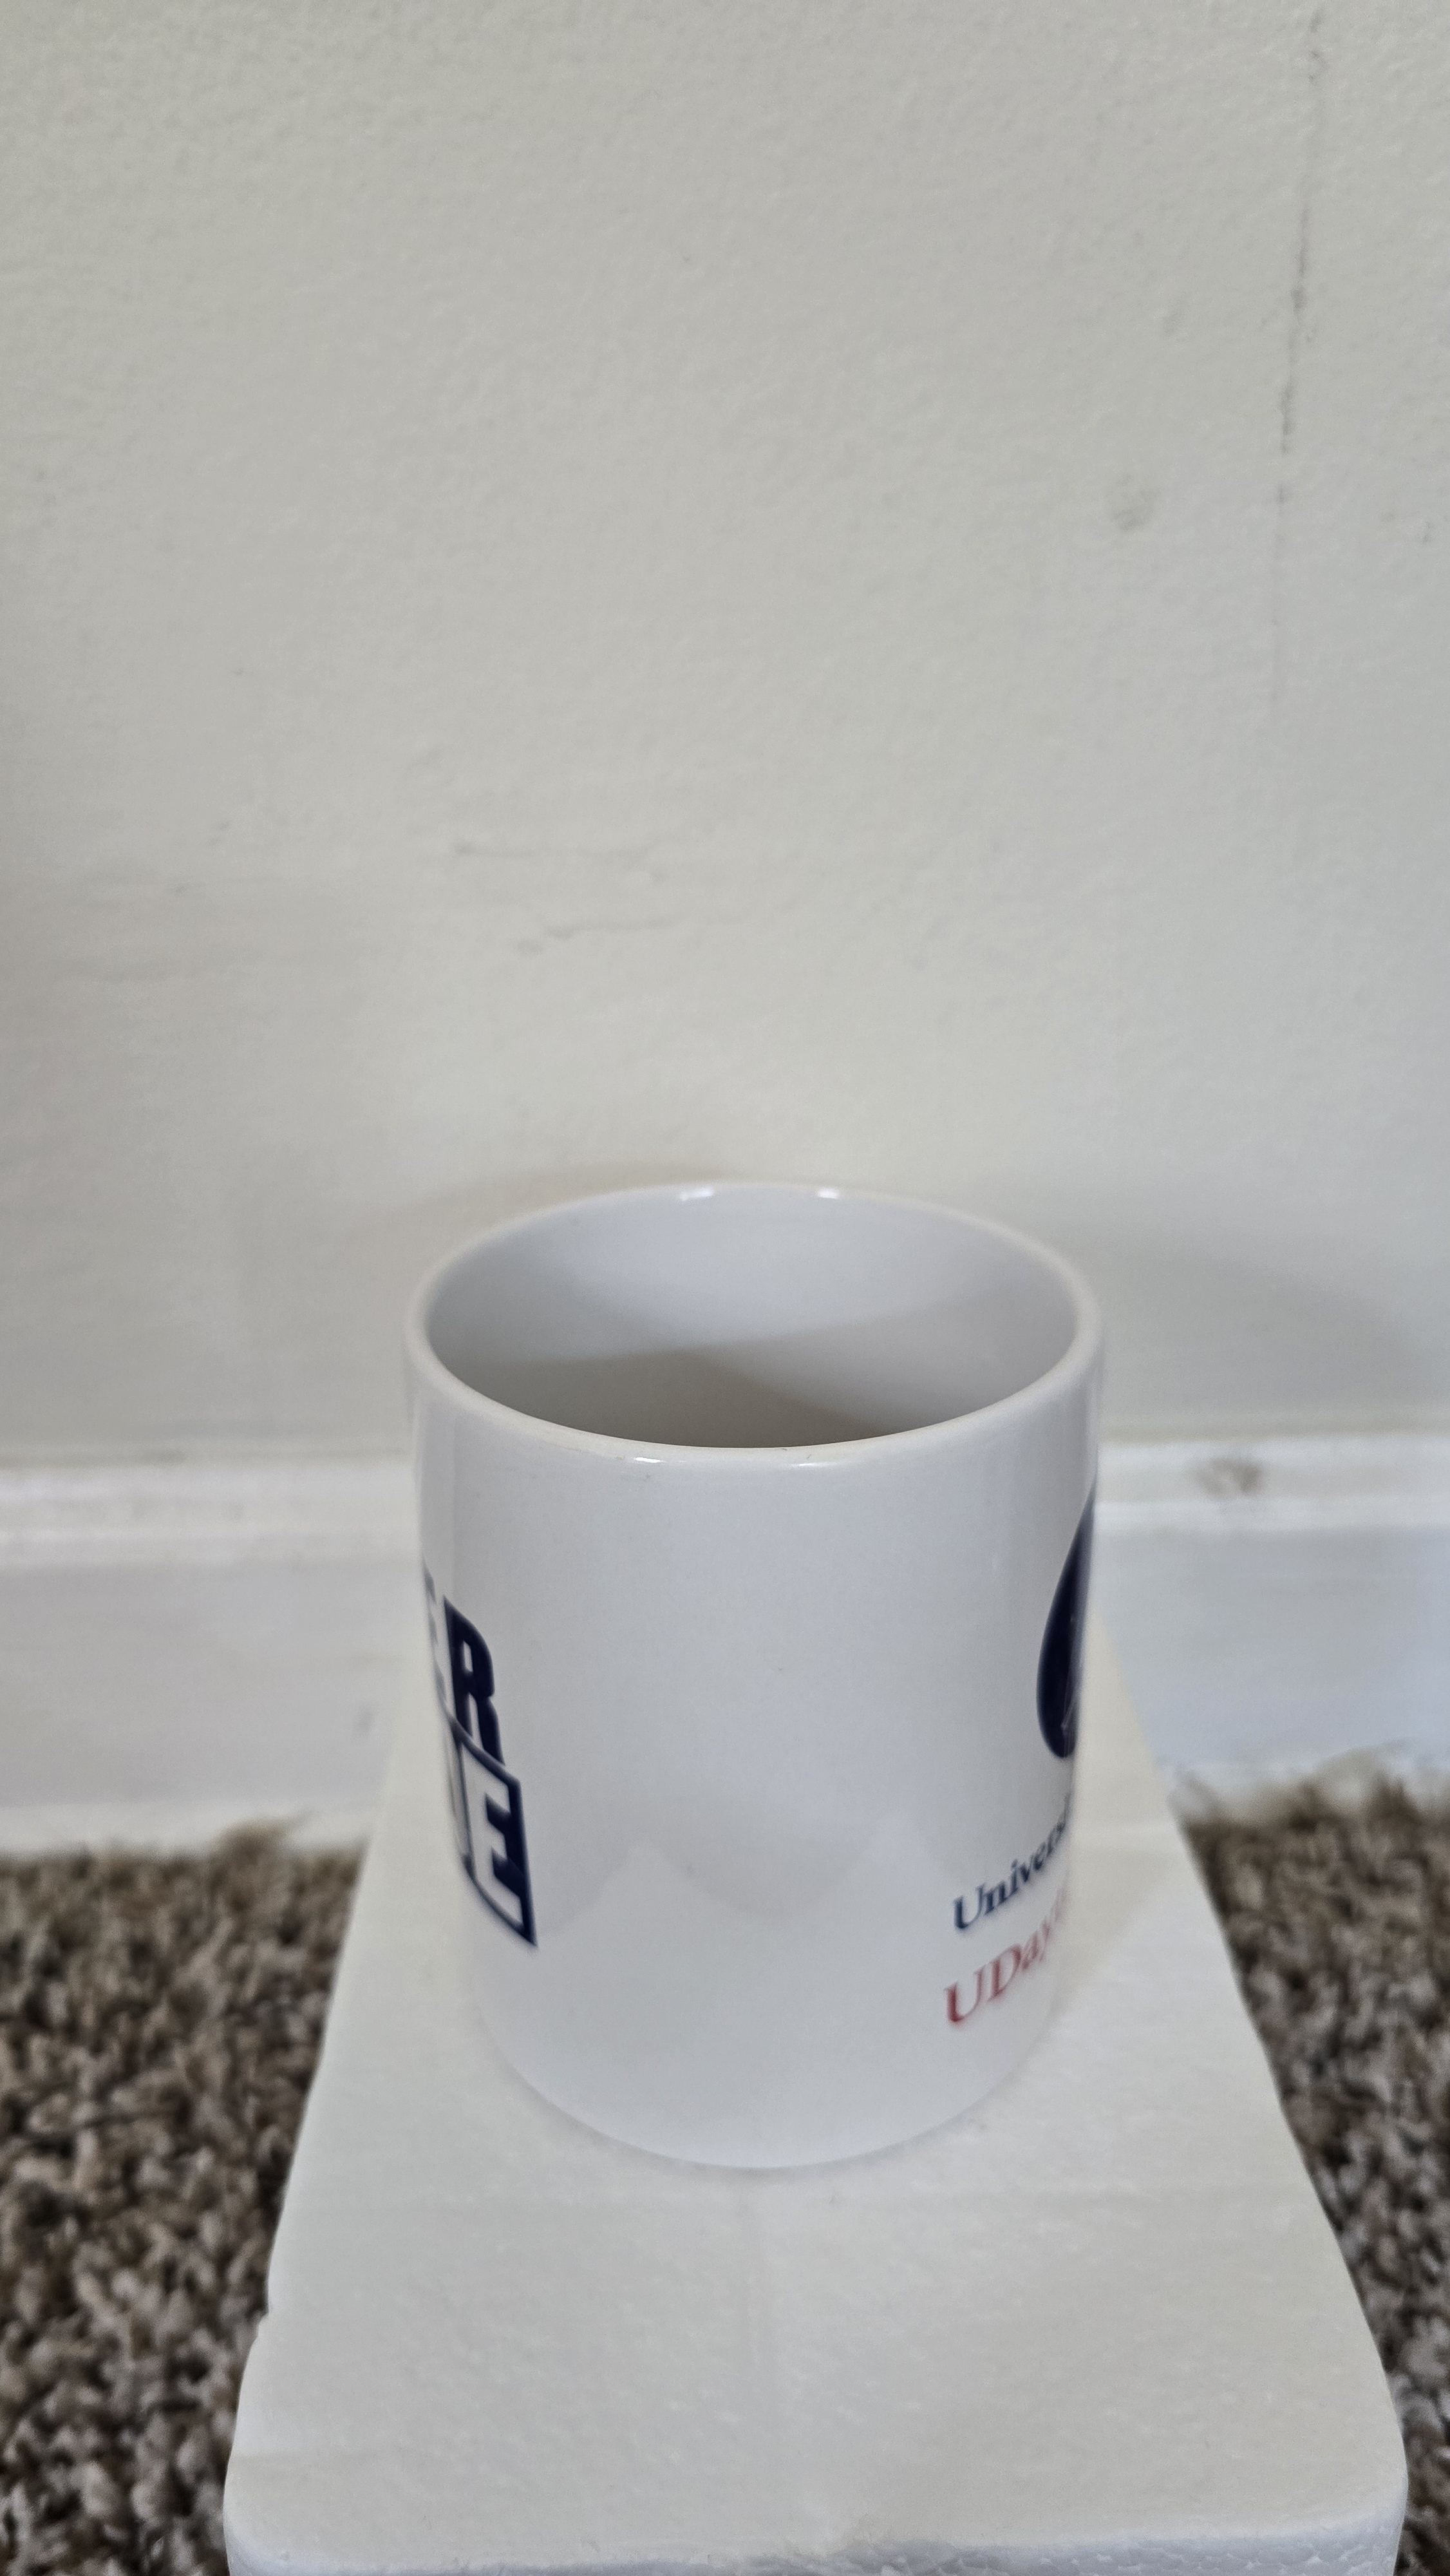mug: (341, 1154, 1287, 2196)
